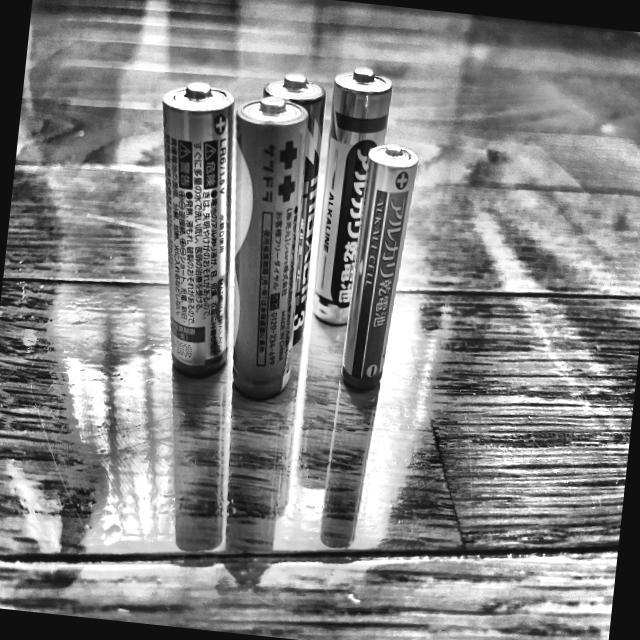drycell: (195, 87, 324, 408), (336, 138, 421, 400)
